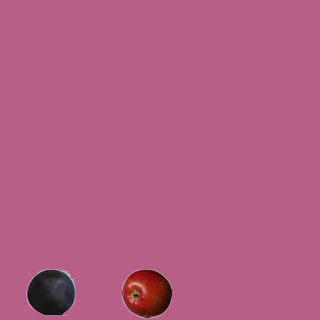Apple Braeburn: (121, 268, 171, 318)
Grape Blue: (25, 266, 75, 316)
